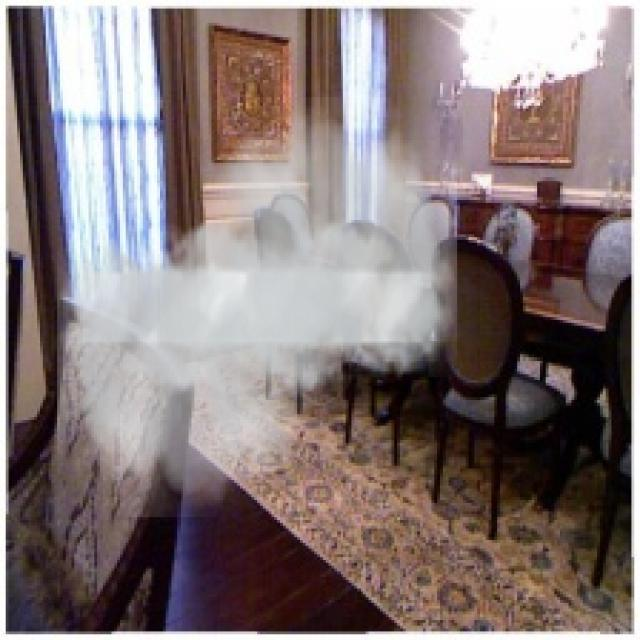Smoke: (57, 97, 457, 517)
